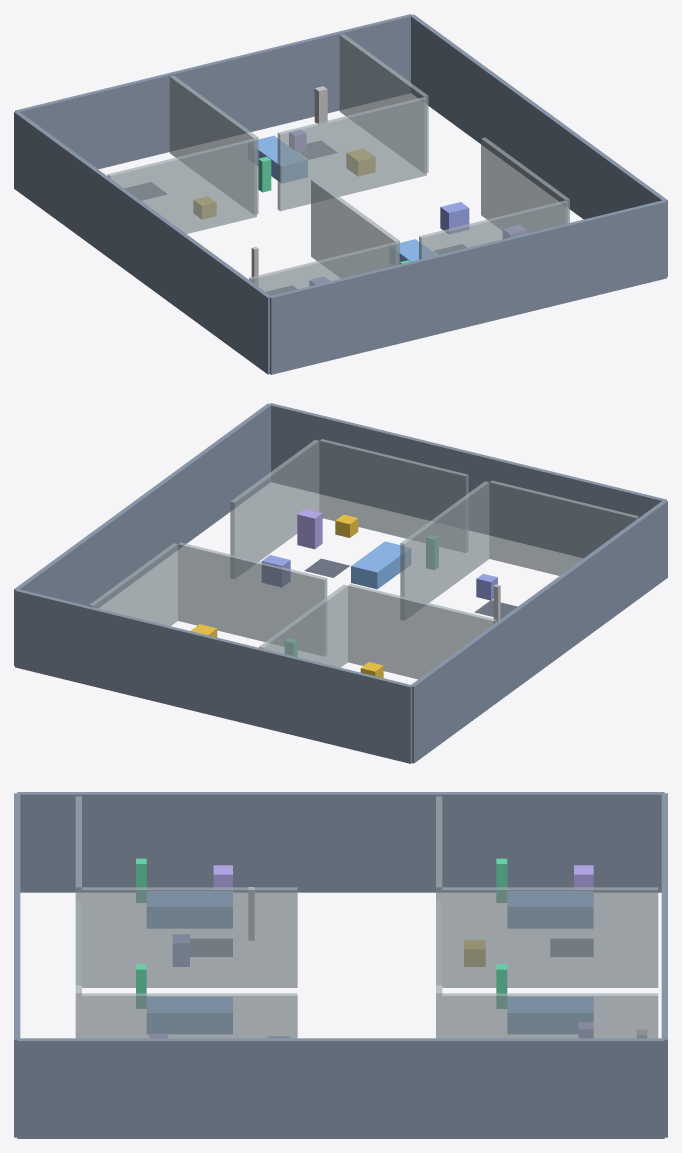
File: bld_mmh5fbgu_eeskrmn.glb
The picture shows the model from 3 angles, top to bottom: view 1: azimuth 30°, elevation 25°; view 2: azimuth 150°, elevation 25°; view 3: azimuth 270°, elevation 25°; orthographic projection. The views are drawn at different scales.
Parts seen in each view (by area): view 1: exported-buildings; view 2: exported-buildings; view 3: exported-buildings.
Part boxes in pixels (x1,y1,x2,y2): exported-buildings: [14, 14, 667, 374]; exported-buildings: [14, 403, 667, 763]; exported-buildings: [14, 792, 667, 1138].
Size of the model in its own units: 13.65 by 2.5 by 15.15.
